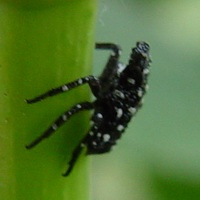insect: (26, 41, 150, 175)
